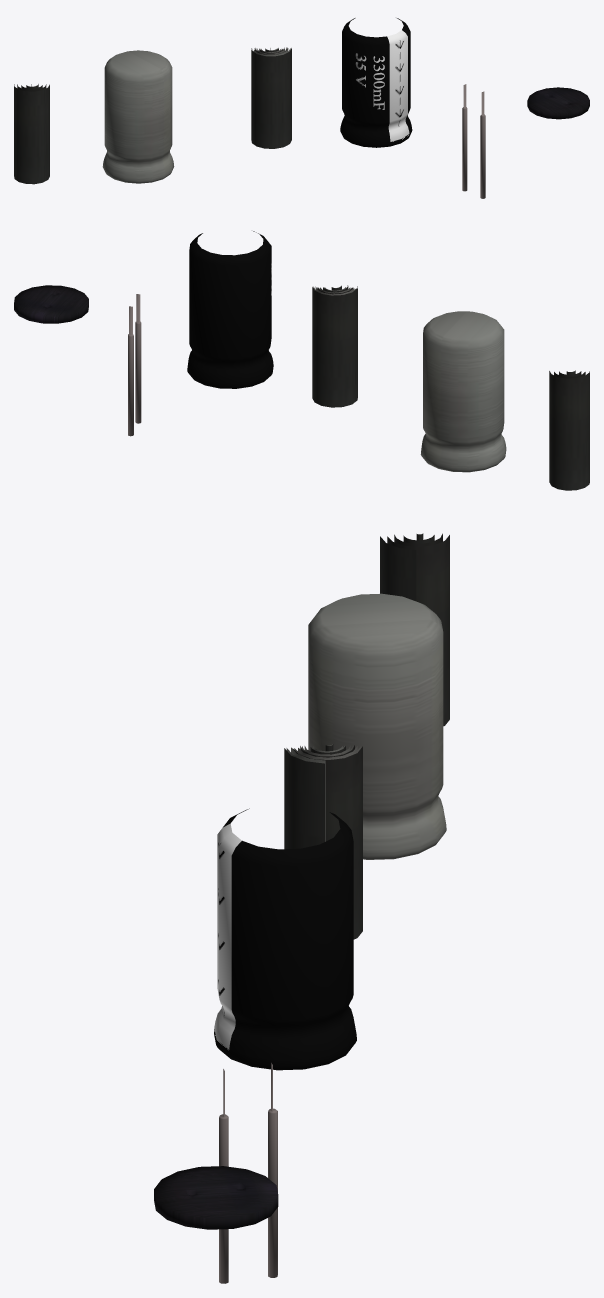
Rendered from Capacitor_anim.glb.
3 renders of one model, top to bottom at view 1: azimuth 30°, elevation 25°; view 2: azimuth 150°, elevation 25°; view 3: azimuth 270°, elevation 25°, orthographic. The views are drawn at different scales.
Visible parts, largest first — view 1: z_Cubierta plástico; view 2: z_Cubierta plástico; view 3: z_Cubierta plástico.
Part boxes in pixels (x1=…): z_Cubierta plástico: x1=14, y1=18, x2=589, y2=198; z_Cubierta plástico: x1=14, y1=231, x2=589, y2=490; z_Cubierta plástico: x1=154, y1=533, x2=449, y2=1283.
Bounding box in the file's own units: 17.65 × 5.95 × 4.36.
Materials: 6 (5 with a texture image).
